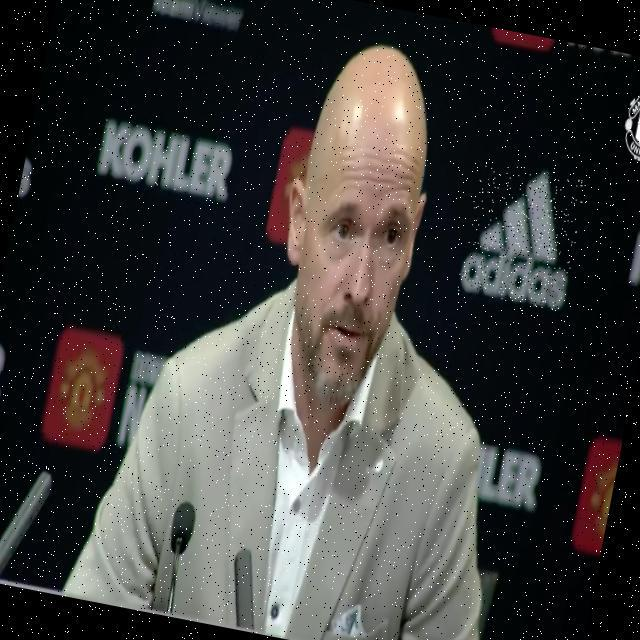Adidas: (456, 159, 588, 313)
Kohler: (94, 116, 239, 202)
TeamViewer: (149, 0, 250, 31)
